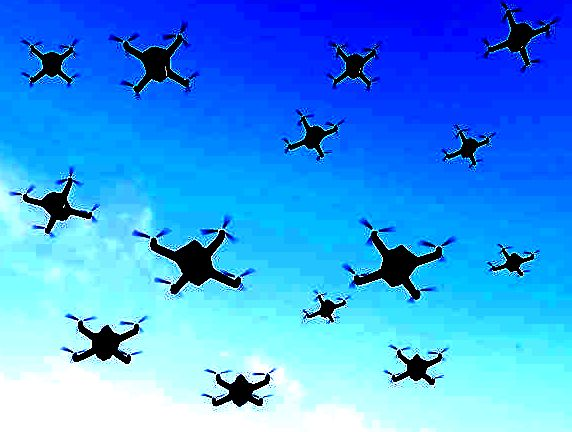Drone: (127, 208, 255, 304), (339, 213, 462, 305), (104, 19, 200, 98), (8, 165, 101, 238), (478, 0, 562, 74), (54, 310, 147, 367), (193, 362, 282, 412), (276, 106, 347, 166), (325, 34, 385, 96), (15, 32, 79, 88), (438, 117, 504, 171), (384, 341, 448, 390), (296, 284, 350, 329), (485, 240, 539, 279)
